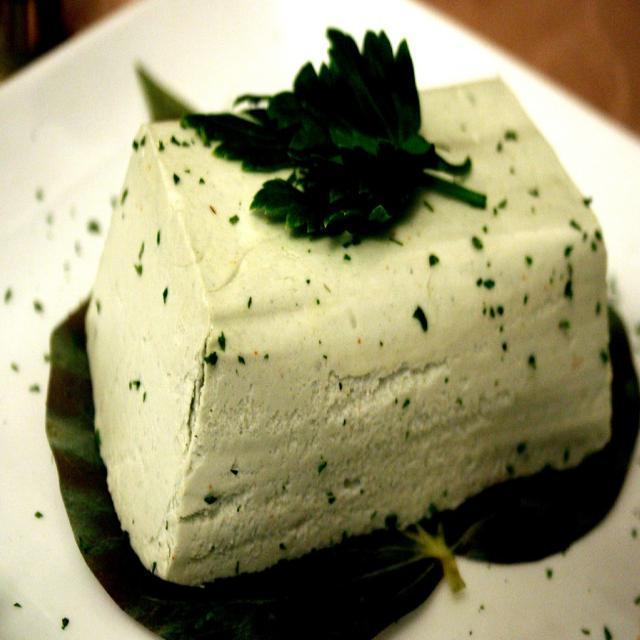Cheese: (82, 70, 606, 582)
